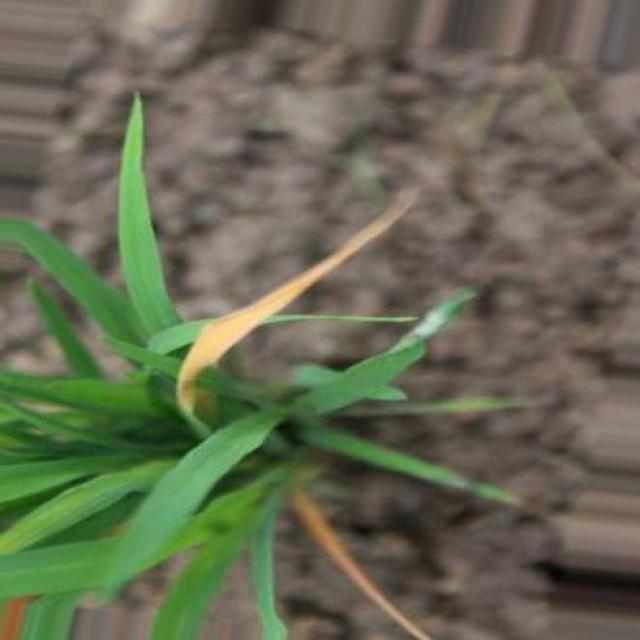Rice Tungro: (176, 189, 418, 421), (291, 491, 434, 639)
